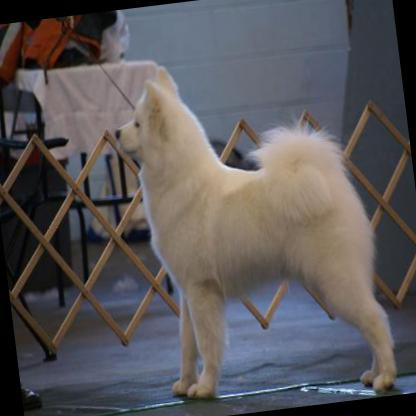Samoyed: (104, 38, 397, 416)
